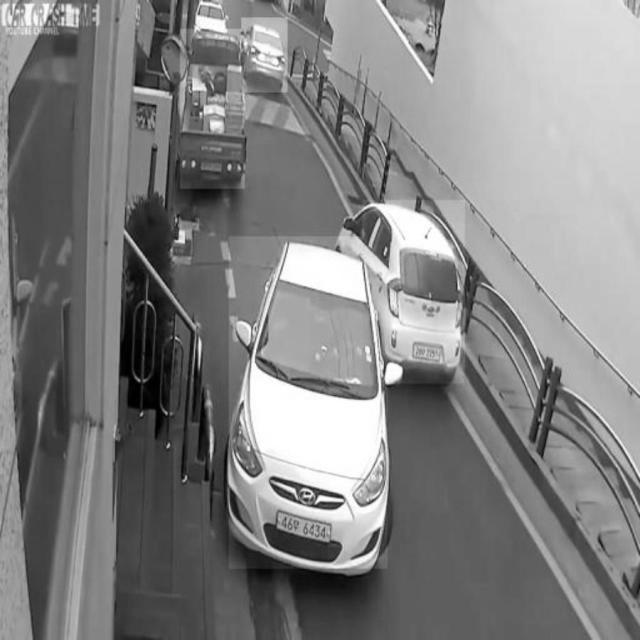vehicle: (229, 237, 387, 569), (363, 200, 465, 384), (181, 30, 245, 190), (242, 18, 288, 92)
